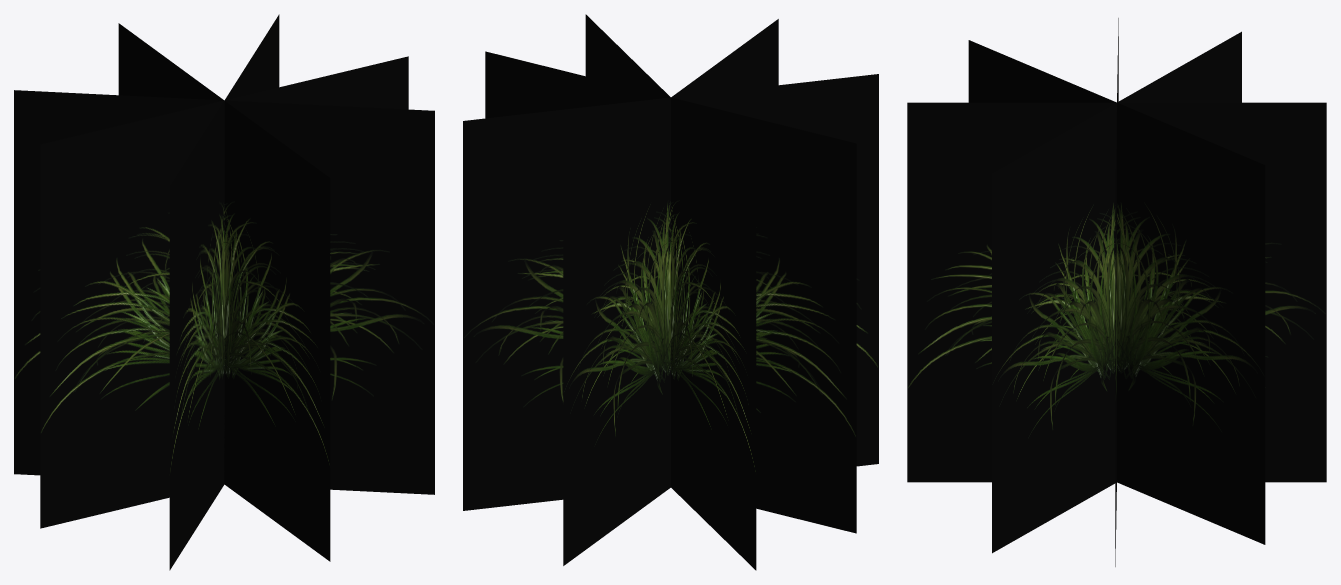
The model's file is grass_2.fbx.
3 renders of one model, left to right at view 1: azimuth 30°, elevation 25°; view 2: azimuth 150°, elevation 25°; view 3: azimuth 270°, elevation 25°, orthographic. The views are drawn at different scales.
Visible parts, largest first — view 1: grass_2; view 2: grass_2; view 3: grass_2.
Part boxes in pixels (x1,y1,x2,y2): grass_2: [14, 14, 434, 570]; grass_2: [463, 14, 878, 570]; grass_2: [907, 18, 1326, 566].
Size of the model in its own units: 100 by 100 by 100.
Materials: 1 (1 with a texture image).
